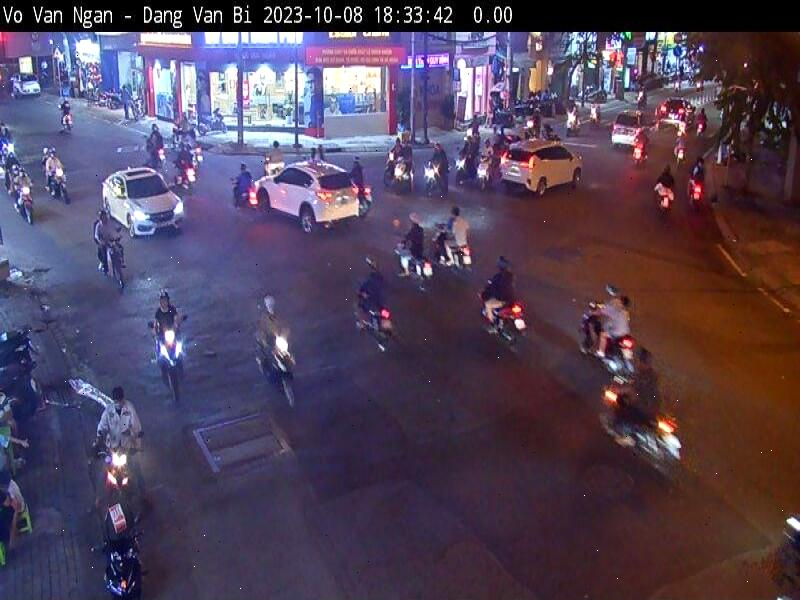car: (253, 159, 360, 237), (101, 168, 187, 238), (500, 140, 584, 197), (611, 110, 649, 146), (660, 97, 692, 124)
motorcycle: (600, 377, 682, 474), (94, 422, 145, 525), (253, 319, 302, 409), (583, 303, 635, 379), (148, 315, 190, 401), (99, 533, 147, 600), (351, 283, 393, 354), (482, 284, 522, 348), (2, 349, 39, 412), (394, 239, 432, 297), (436, 222, 470, 275), (100, 230, 125, 292), (0, 325, 39, 364), (421, 160, 449, 192), (454, 148, 476, 184), (49, 166, 71, 201), (234, 179, 256, 212), (392, 157, 413, 190), (16, 183, 34, 221), (352, 185, 372, 219), (653, 184, 675, 214), (478, 153, 496, 189), (384, 151, 403, 185), (689, 173, 708, 206), (146, 136, 166, 166), (178, 161, 197, 192), (261, 156, 285, 178), (632, 144, 646, 167)
